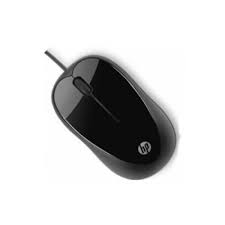hp-mouse-X1000: (32, 46, 178, 180)
